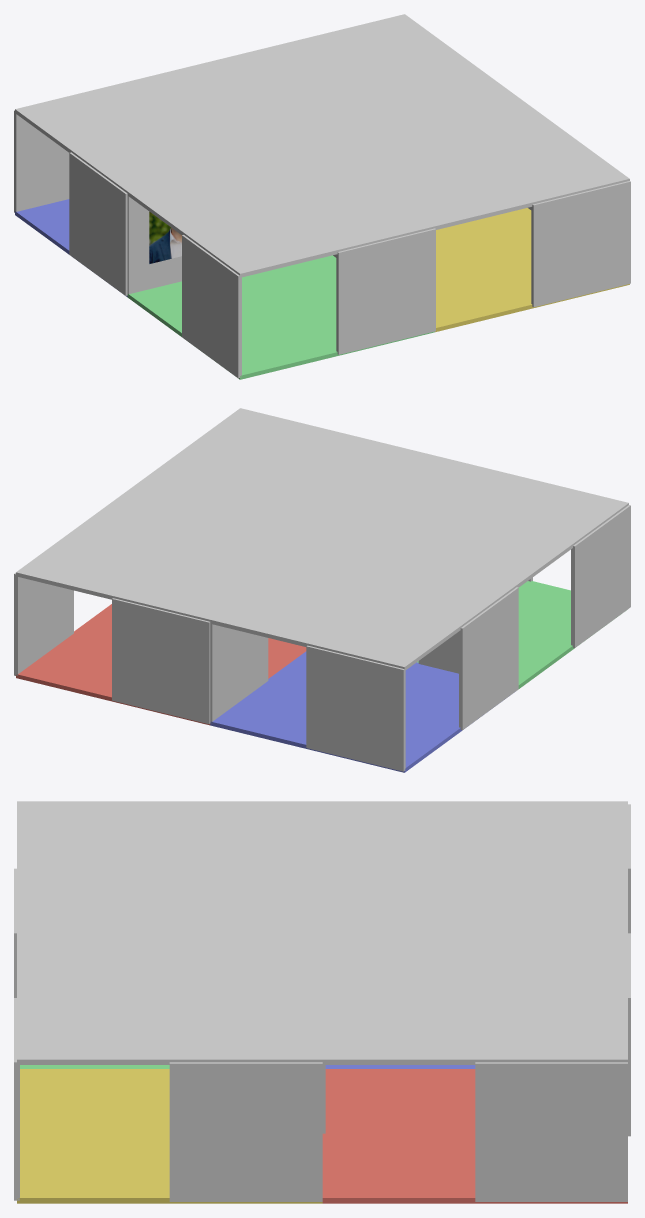
The model's file is 006-casa con textura.glb.
The picture shows the model from 3 angles, top to bottom: view 1: azimuth 30°, elevation 25°; view 2: azimuth 150°, elevation 25°; view 3: azimuth 270°, elevation 25°; orthographic projection. The views are drawn at different scales.
Parts seen in each view (by area): view 1: Cube.007, Cube.029, Cube.006, Cube.018, Cube.011, Cube.033, Cube.021, Cube.010, Cube.008, Cube.030, Cube.022, Cube.043 (+20 smaller); view 2: Cube.017, Cube.039, Cube.018, Cube.006, Cube.021, Cube.020, Cube.041, Cube.010, Cube.042, Cube.022, Cube.011, Cube.032 (+20 smaller); view 3: Cube.027, Cube.038, Cube.034, Cube.040, Cube.030, Cube.023, Cube.031, Cube.041, Cube.009, Cube.010, Cube.019, Cube.022 (+14 smaller).
Boxes of the visible parts, box(x1,y1,x2,y2) form: Cube.007: box(336, 228, 435, 354); Cube.029: box(531, 181, 630, 307); Cube.006: box(182, 235, 241, 378); Cube.018: box(69, 152, 127, 295); Cube.011: box(184, 209, 337, 277); Cube.033: box(379, 161, 532, 229); Cube.021: box(15, 85, 168, 152); Cube.010: box(127, 168, 280, 234); Cube.008: box(282, 185, 434, 251); Cube.030: box(476, 137, 629, 204); Cube.022: box(71, 126, 224, 193); Cube.043: box(266, 79, 419, 143); Cube.017: box(306, 645, 405, 771); Cube.039: box(112, 598, 210, 723); Cube.018: box(459, 587, 518, 730); Cube.006: box(571, 505, 630, 647); Cube.021: box(307, 602, 460, 669); Cube.020: box(210, 578, 362, 646); Cube.041: box(16, 531, 168, 599); Cube.010: box(420, 520, 572, 587); Cube.042: box(113, 555, 265, 621); Cube.022: box(364, 561, 516, 627); Cube.011: box(476, 479, 628, 545); Cube.032: box(225, 473, 378, 537); Cube.027: box(169, 1062, 322, 1201); Cube.038: box(475, 1062, 627, 1201); Cube.034: box(322, 1133, 475, 1203); Cube.040: box(322, 995, 475, 1064); Cube.030: box(17, 995, 169, 1064); Cube.023: box(17, 1133, 169, 1203); Cube.031: box(169, 995, 322, 1062); Cube.041: box(475, 995, 627, 1062); Cube.009: box(169, 866, 322, 930); Cube.010: box(169, 801, 322, 865); Cube.019: box(322, 866, 475, 930); Cube.022: box(322, 801, 475, 865).
Bounding box in the file's own units: 8.08 × 2.08 × 8.08.
5 materials, 1 textured.
